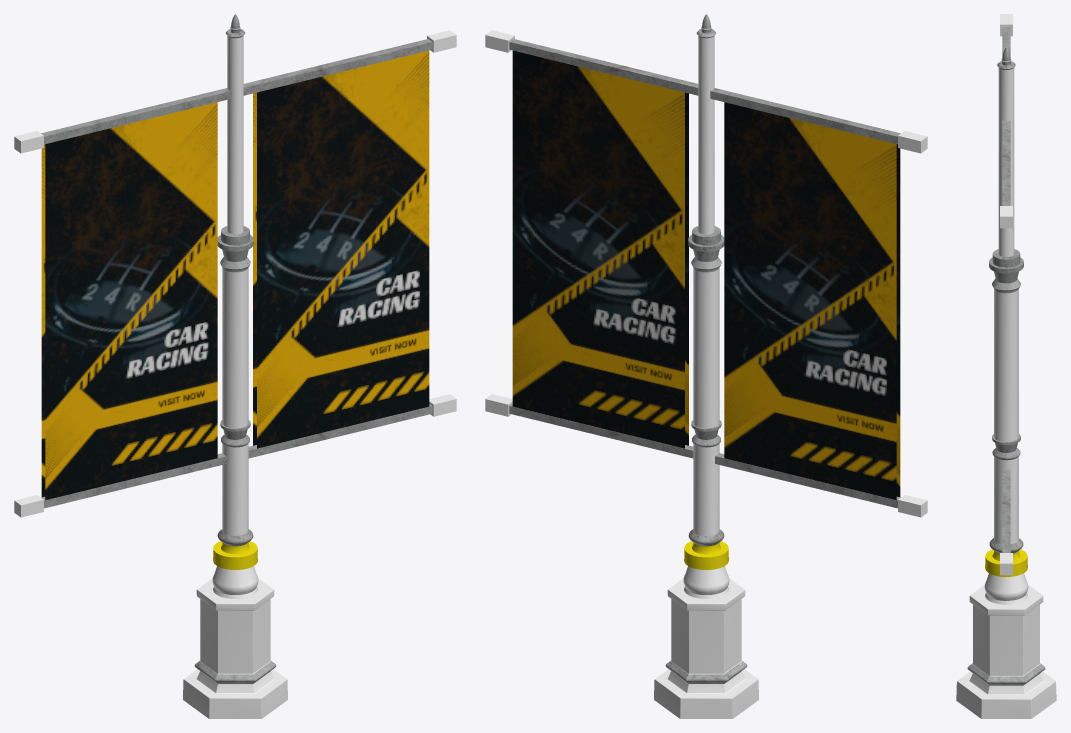
The model's file is Pole_Banner8.fbx.
The picture shows the model from 3 angles, left to right: view 1: azimuth 30°, elevation 25°; view 2: azimuth 150°, elevation 25°; view 3: azimuth 270°, elevation 25°; orthographic projection. The views are drawn at different scales.
Parts seen in each view (by area): view 1: Pole_Banner8; view 2: Pole_Banner8; view 3: Pole_Banner8.
Part boxes in pixels (bbox=[...]): Pole_Banner8: bbox=[14, 14, 456, 718]; Pole_Banner8: bbox=[485, 14, 927, 718]; Pole_Banner8: bbox=[956, 14, 1056, 718].
Size of the model in its own units: 4.64 by 6.98 by 0.9707.
